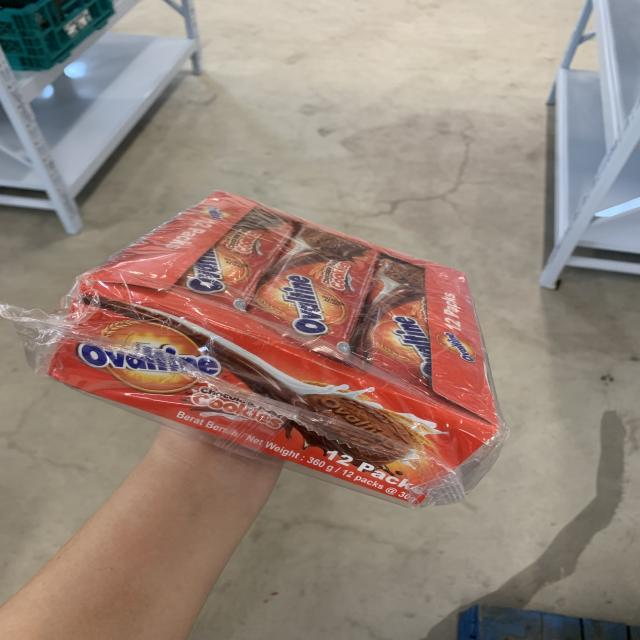object_name: (34, 188, 495, 461)
